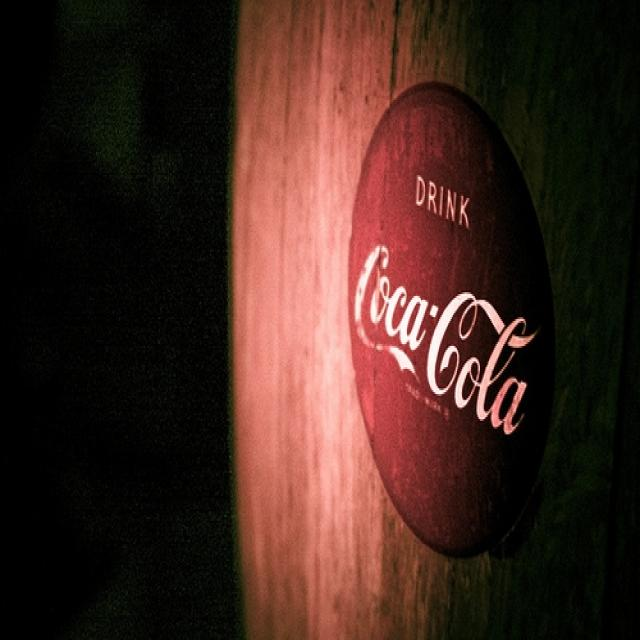cocacola: (346, 232, 540, 447)
